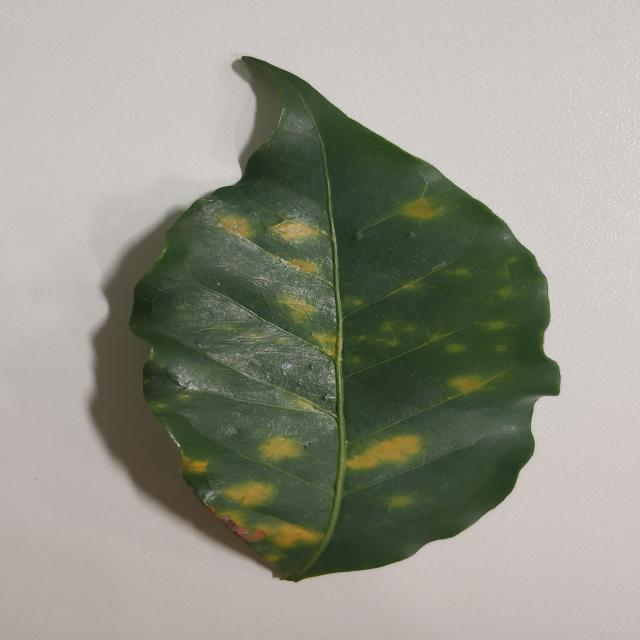Enfermedad-Roya: (127, 56, 562, 585)
